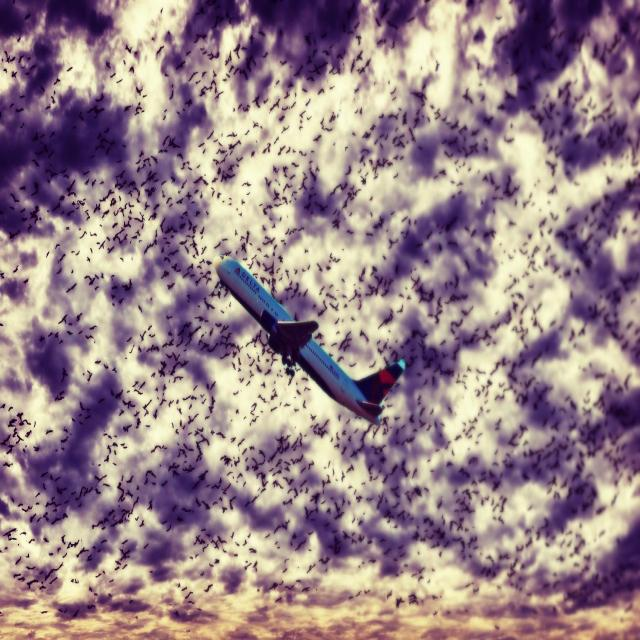airplane: (214, 255, 406, 426)
